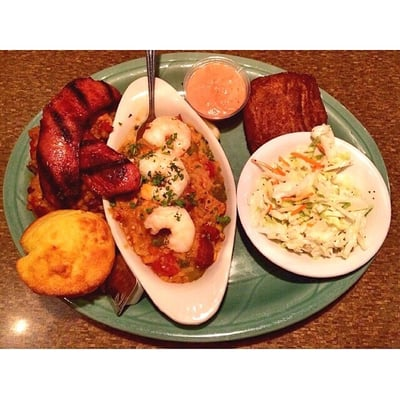sushi: (236, 128, 393, 281)
